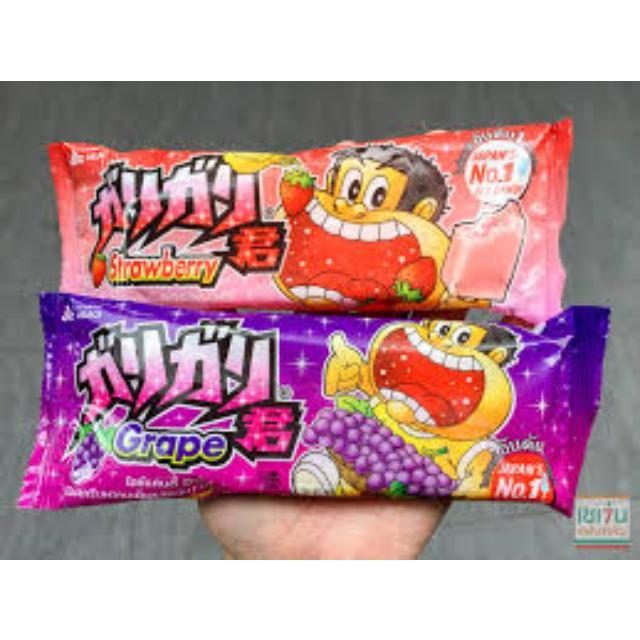Paquete de plastico: (16, 292, 612, 516), (48, 119, 573, 324)
